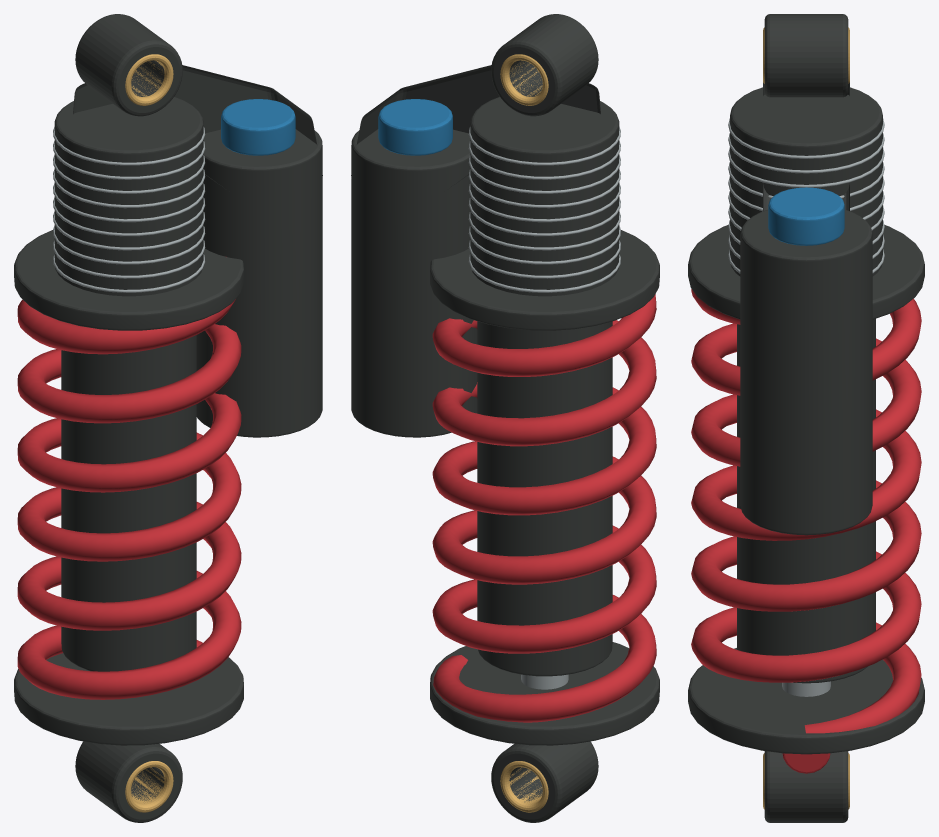
File: rockshox-vivid-coil-ultimate-d1--f0c4d052.glb
The picture shows the model from 3 angles, left to right: view 1: azimuth 30°, elevation 25°; view 2: azimuth 150°, elevation 25°; view 3: azimuth 270°, elevation 25°; orthographic projection. The views are drawn at different scales.
Visible parts, largest first — view 1: rockshox-vivid-coil-ultimate-d1--f0c4d052__link, rockshox-vivid-coil-ultimate-d1--f0c4d052__rebound, rockshox-vivid-coil-ultimate-d1--f0c4d052__bolts, rockshox-vivid-coil-ultimate-d1--f0c4d052__adjuster, rockshox-vivid-coil-ultimate-d1--f0c4d052__stanchions; view 2: rockshox-vivid-coil-ultimate-d1--f0c4d052__link, rockshox-vivid-coil-ultimate-d1--f0c4d052__rebound, rockshox-vivid-coil-ultimate-d1--f0c4d052__bolts, rockshox-vivid-coil-ultimate-d1--f0c4d052__adjuster, rockshox-vivid-coil-ultimate-d1--f0c4d052__stanchions; view 3: rockshox-vivid-coil-ultimate-d1--f0c4d052__link, rockshox-vivid-coil-ultimate-d1--f0c4d052__rebound, rockshox-vivid-coil-ultimate-d1--f0c4d052__bolts, rockshox-vivid-coil-ultimate-d1--f0c4d052__adjuster, rockshox-vivid-coil-ultimate-d1--f0c4d052__stanchions.
Boxes of the visible parts, x1,y1,x2,y2 form: rockshox-vivid-coil-ultimate-d1--f0c4d052__link: (14,14,322,822); rockshox-vivid-coil-ultimate-d1--f0c4d052__rebound: (17,299,241,699); rockshox-vivid-coil-ultimate-d1--f0c4d052__bolts: (53,127,205,292); rockshox-vivid-coil-ultimate-d1--f0c4d052__adjuster: (221,99,295,155); rockshox-vivid-coil-ultimate-d1--f0c4d052__stanchions: (125,54,173,812); rockshox-vivid-coil-ultimate-d1--f0c4d052__link: (351,14,659,822); rockshox-vivid-coil-ultimate-d1--f0c4d052__rebound: (432,294,656,722); rockshox-vivid-coil-ultimate-d1--f0c4d052__bolts: (468,127,620,689); rockshox-vivid-coil-ultimate-d1--f0c4d052__adjuster: (378,99,452,155); rockshox-vivid-coil-ultimate-d1--f0c4d052__stanchions: (500,54,548,812); rockshox-vivid-coil-ultimate-d1--f0c4d052__link: (688,14,924,822); rockshox-vivid-coil-ultimate-d1--f0c4d052__rebound: (691,289,921,773); rockshox-vivid-coil-ultimate-d1--f0c4d052__bolts: (728,118,884,696); rockshox-vivid-coil-ultimate-d1--f0c4d052__adjuster: (768,187,844,245); rockshox-vivid-coil-ultimate-d1--f0c4d052__stanchions: (763,27,849,809).
Size of the model in its own units: 0.097 by 0.254 by 0.068.
